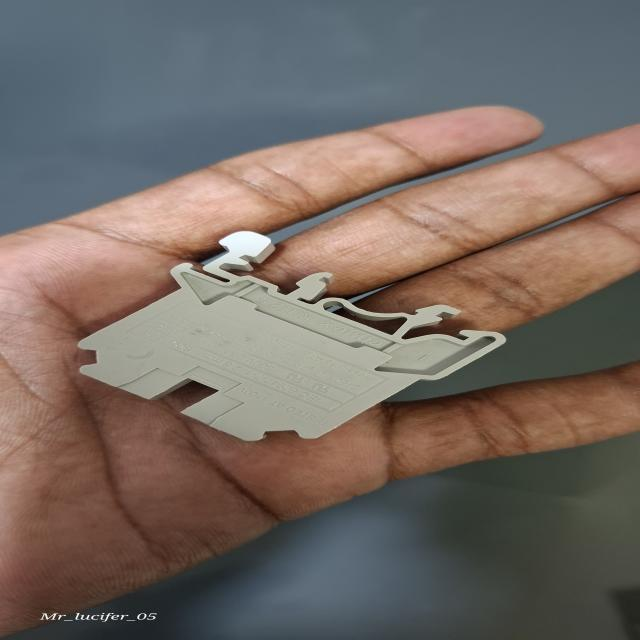Inverted: (61, 230, 514, 450)
